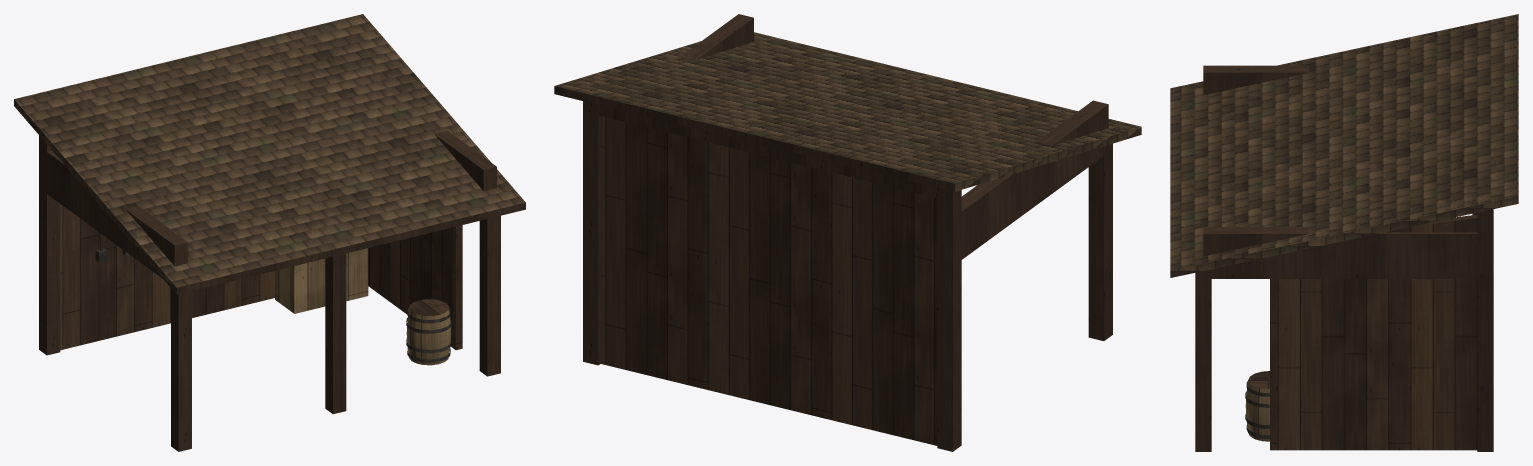
File: blacksmith_shed.gltf
The picture shows the model from 3 angles, left to right: view 1: azimuth 30°, elevation 25°; view 2: azimuth 150°, elevation 25°; view 3: azimuth 270°, elevation 25°; orthographic projection. The views are drawn at different scales.
Visible parts, largest first — view 1: blacksmith_shed_mesh; view 2: blacksmith_shed_mesh; view 3: blacksmith_shed_mesh.
Boxes of the visible parts, x1,y1,x2,y2 form: blacksmith_shed_mesh: (14,14,525,451); blacksmith_shed_mesh: (554,14,1141,451); blacksmith_shed_mesh: (1170,14,1518,451).
Size of what is drawn, in the model's own units: 5.2 by 3.49 by 4.2.
5 materials, 5 textured.
